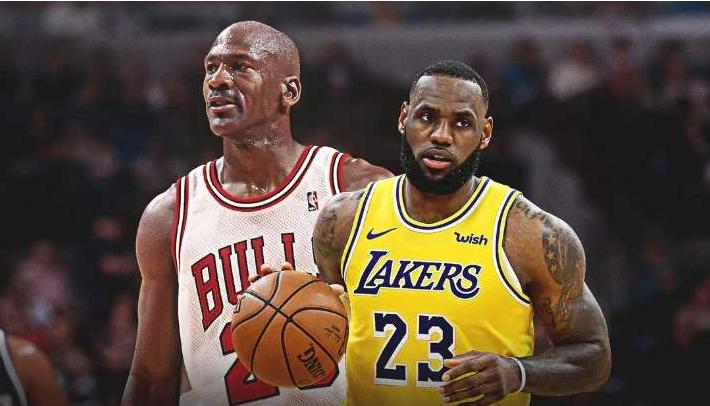ball: (233, 270, 350, 388)
